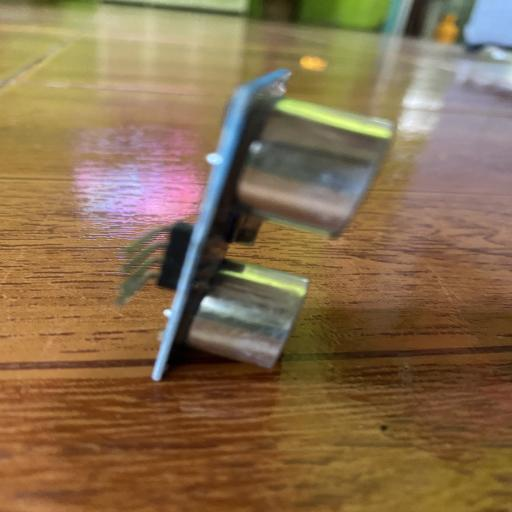Ultrasonic Sensor: (115, 65, 399, 383)
